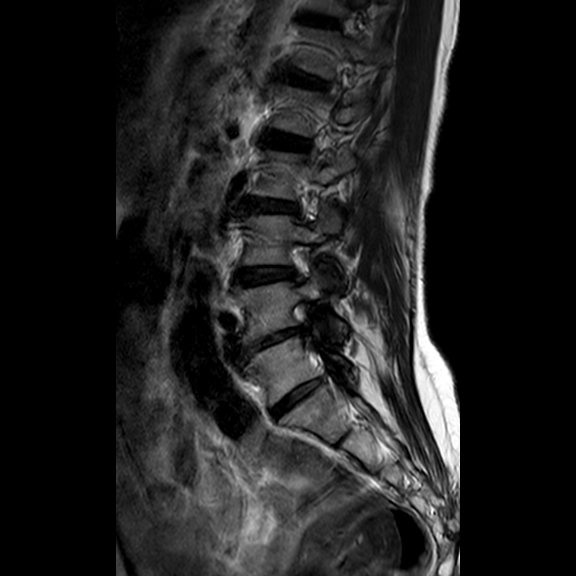LFS0: (279, 231, 321, 289)
